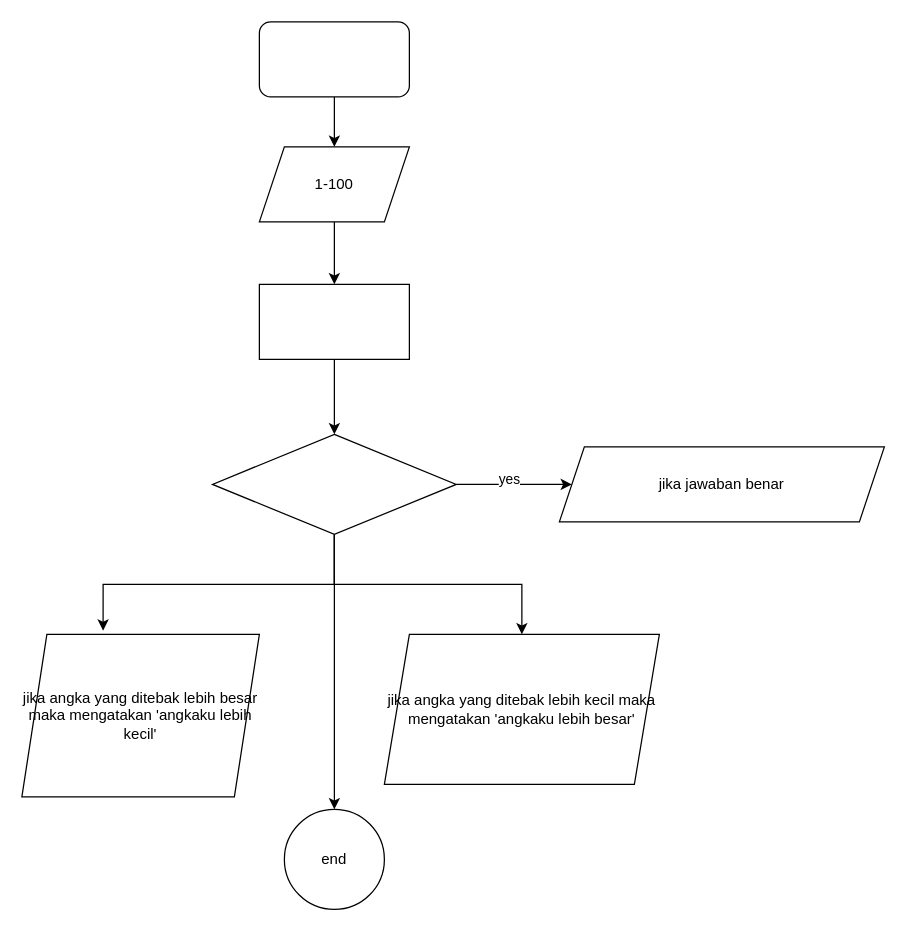
The diagram is 906 pixels wide and 931 high, and some of its shapes have lost their labels. The shapes that lost their labels are listed below. From the top down, each one's centre as x and y in pixels, then its label:
At [333,59]: "start".
At [333,321]: "proses".
At [333,483]: "penebak=angka".
